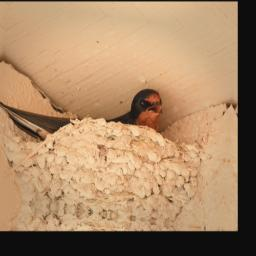Swallow: (0, 66, 166, 165)
